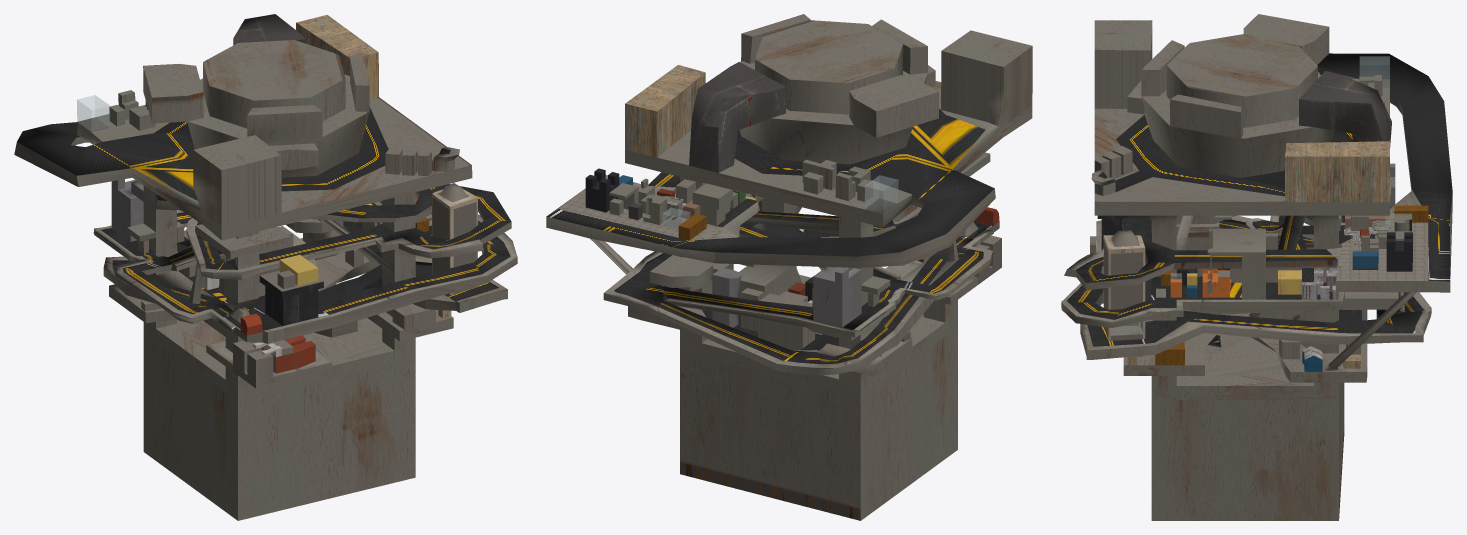
The model's file is sproutstylecity5.gltf.
3 renders of one model, left to right at view 1: azimuth 30°, elevation 25°; view 2: azimuth 150°, elevation 25°; view 3: azimuth 270°, elevation 25°, orthographic. The views are drawn at different scales.
Visible parts, largest first — view 1: citybase; view 2: citybase; view 3: citybase.
Part boxes in pixels (bbox=[...]): citybase: bbox=[14, 14, 517, 520]; citybase: bbox=[546, 14, 1032, 520]; citybase: bbox=[1061, 14, 1452, 520].
Bounding box in the file's own units: 155 × 162 × 141.
